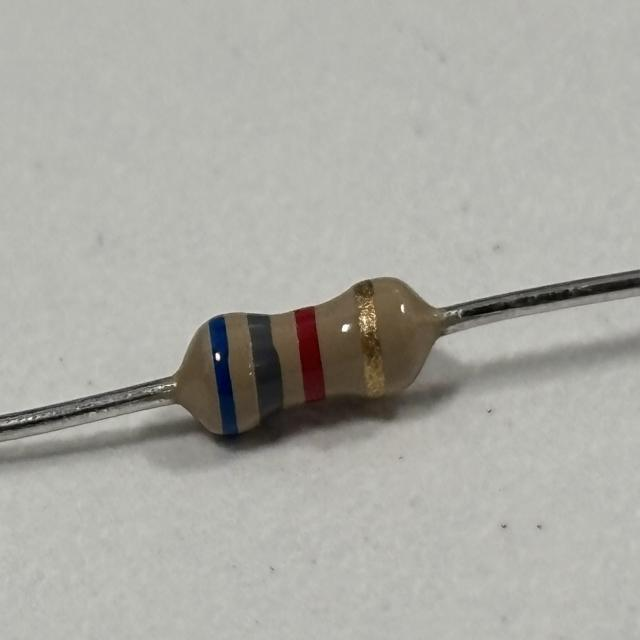resistor: (191, 273, 418, 437)
